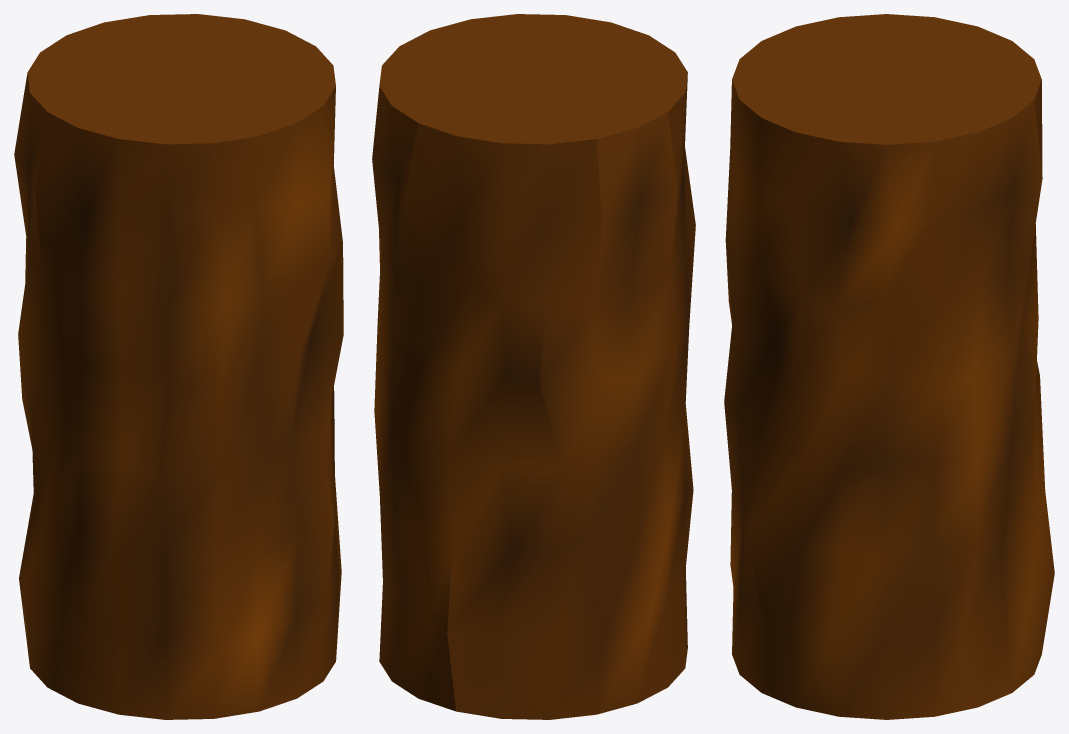
Rendered from TreeMiddle4.fbx.
3 views of the same model, side by side, from view 1: azimuth 30°, elevation 25°; view 2: azimuth 150°, elevation 25°; view 3: azimuth 270°, elevation 25° (orthographic).
Parts seen in each view (by area): view 1: TreeMiddle4; view 2: TreeMiddle4; view 3: TreeMiddle4.
Boxes of the visible parts, <box> form: TreeMiddle4: <box>14,14,343,719</box>; TreeMiddle4: <box>372,14,695,719</box>; TreeMiddle4: <box>724,14,1054,719</box>.
Bounding box in the file's own units: 199 × 383 × 199.
